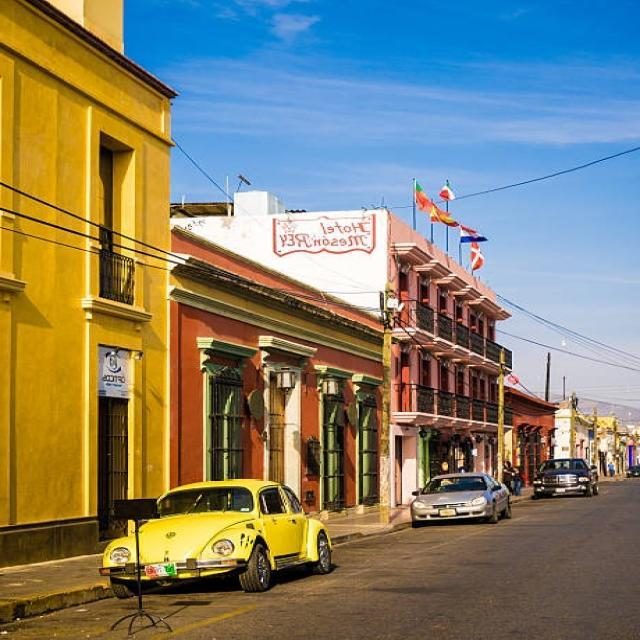car: (99, 485, 342, 593), (413, 474, 509, 528), (532, 451, 606, 501)
